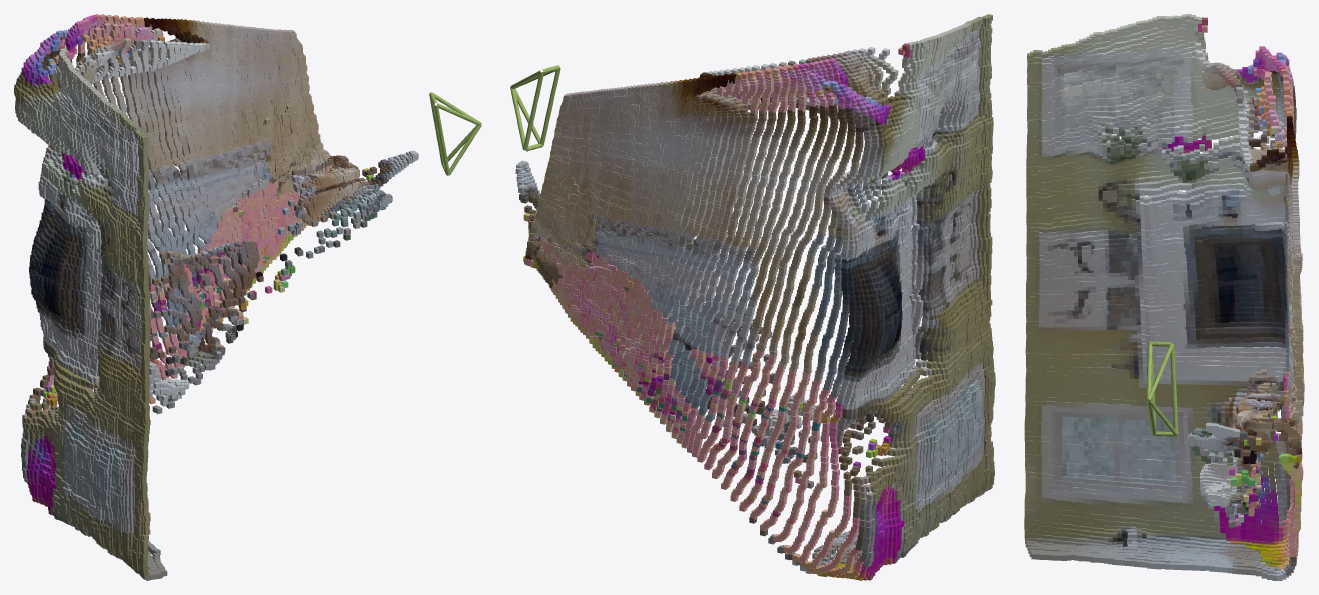
File: pred_4-compressed.glb
3 views of the same model, side by side, from view 1: azimuth 30°, elevation 25°; view 2: azimuth 150°, elevation 25°; view 3: azimuth 270°, elevation 25° (orthographic). The views are drawn at different scales.
Bounding box in the file's own units: 4.5 × 5.06 × 2.42.
